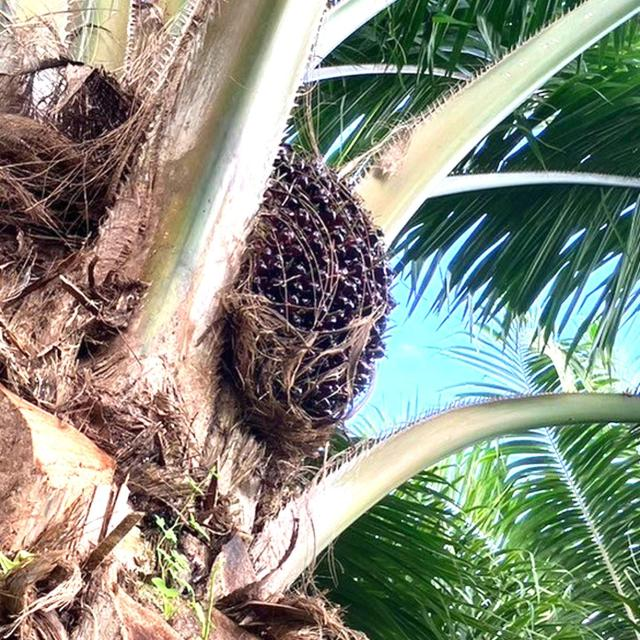ripe: (212, 126, 404, 454)
